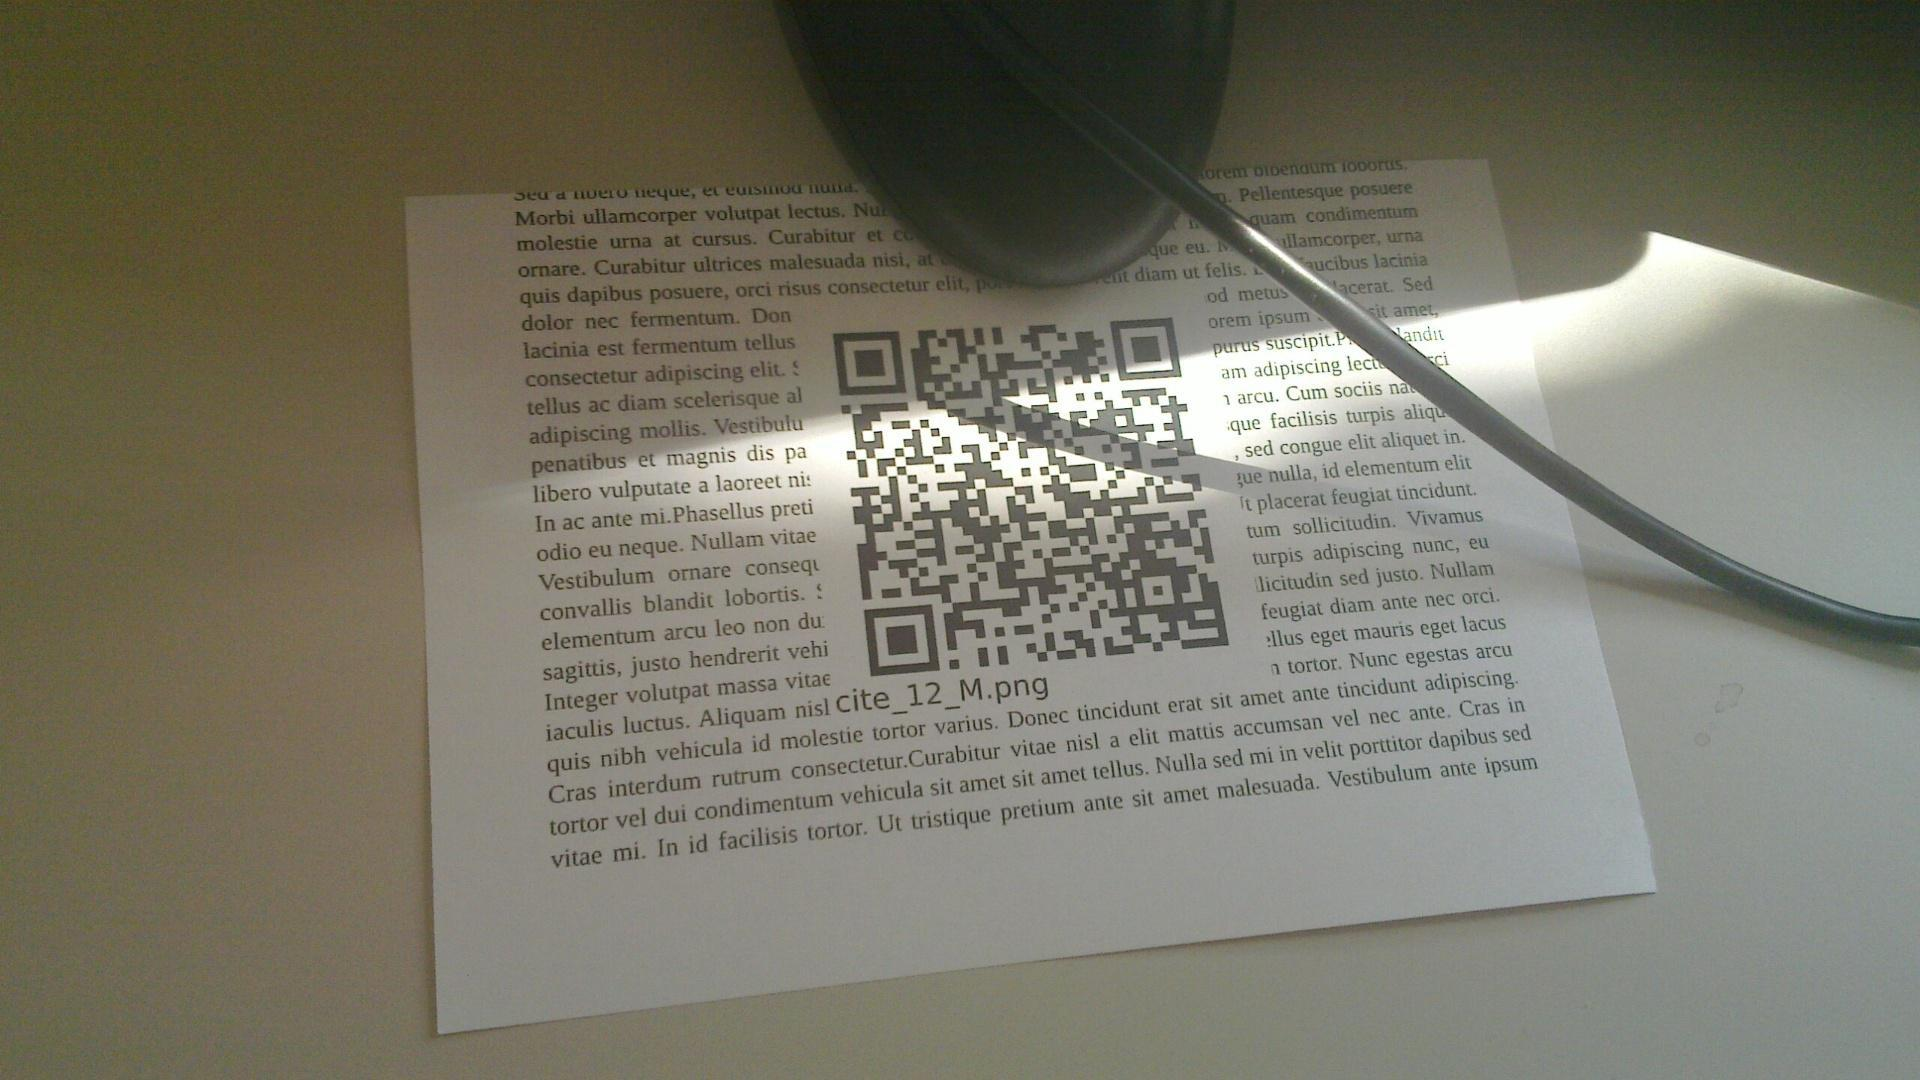Finder pattern: (1102, 309, 1189, 386), (825, 323, 911, 398), (856, 605, 942, 679)
